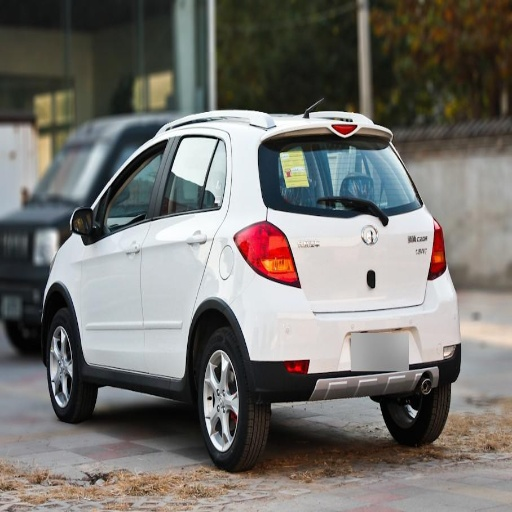back_bumper: (230, 272, 460, 404)
back_glass: (259, 135, 421, 215)
back_left_door: (143, 131, 224, 375)
tailgate: (285, 233, 365, 310)
trunk: (281, 211, 434, 312)
